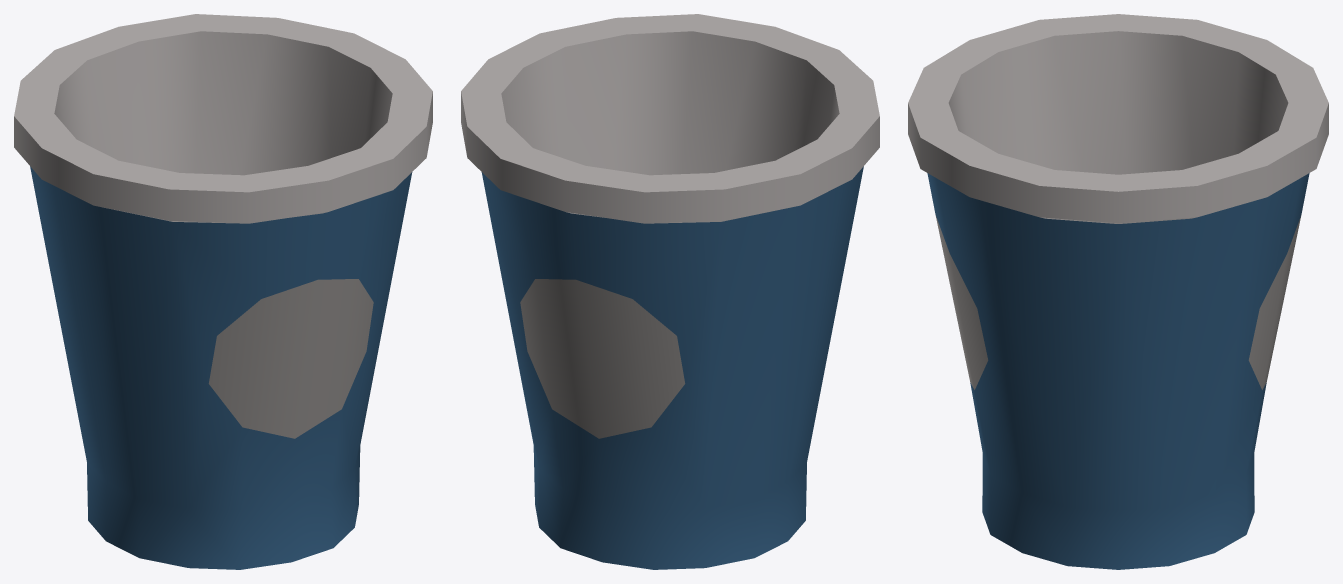
The model's file is SM_Prop_Cup_Coffee_Disposable_Cup_01.obj.
3 views of the same model, side by side, from view 1: azimuth 30°, elevation 25°; view 2: azimuth 150°, elevation 25°; view 3: azimuth 270°, elevation 25° (orthographic).
Visible parts, largest first — view 1: SM_Prop_Cup_Coffee_Disposable_Cup_01_Mat_SwatchOverlay_PolygonOf; view 2: SM_Prop_Cup_Coffee_Disposable_Cup_01_Mat_SwatchOverlay_PolygonOf; view 3: SM_Prop_Cup_Coffee_Disposable_Cup_01_Mat_SwatchOverlay_PolygonOf.
Part boxes in pixels (bbox=[...]): SM_Prop_Cup_Coffee_Disposable_Cup_01_Mat_SwatchOverlay_PolygonOf: bbox=[14, 14, 432, 569]; SM_Prop_Cup_Coffee_Disposable_Cup_01_Mat_SwatchOverlay_PolygonOf: bbox=[461, 14, 879, 569]; SM_Prop_Cup_Coffee_Disposable_Cup_01_Mat_SwatchOverlay_PolygonOf: bbox=[908, 14, 1328, 569].
Size of the model in its own units: 0.1636 by 0.1757 by 0.1636.
Materials: 1 (1 with a texture image).
